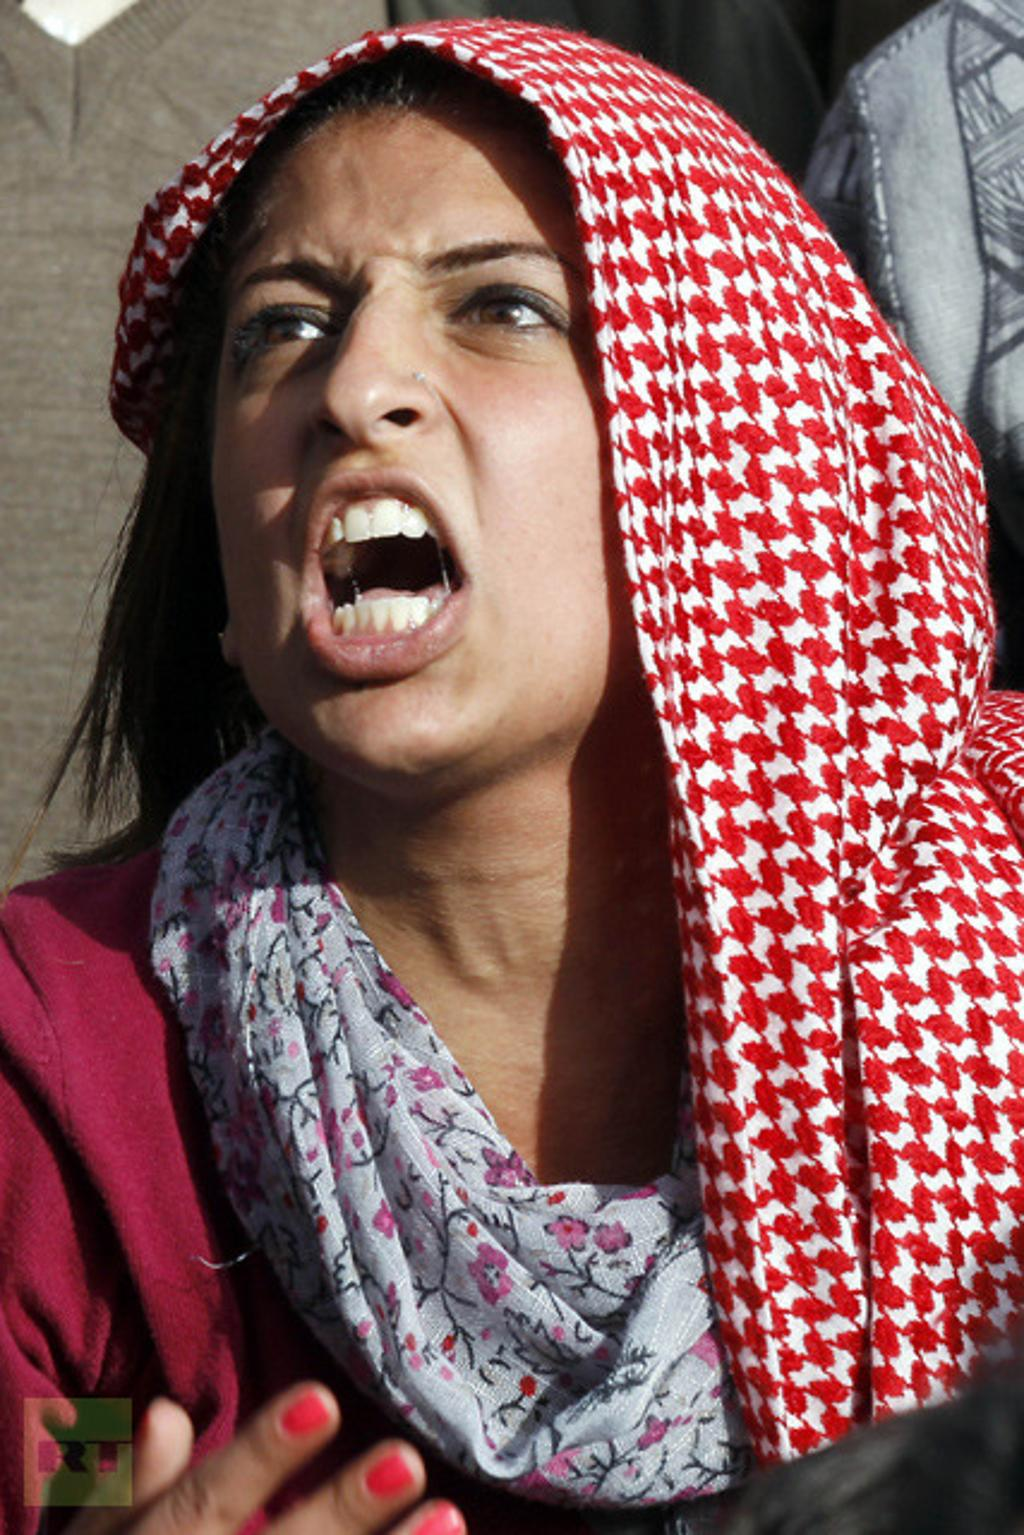face: (220, 100, 693, 759)
